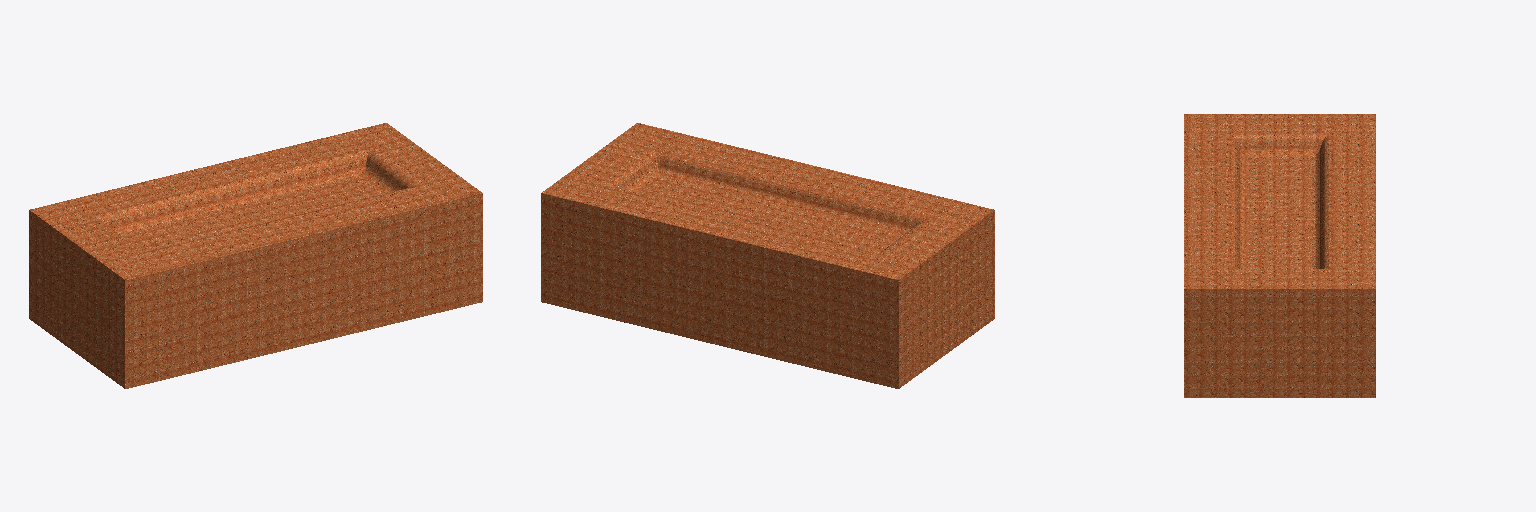
The picture shows the model from 3 angles: view 1: azimuth 30°, elevation 25°; view 2: azimuth 150°, elevation 25°; view 3: azimuth 270°, elevation 25°; orthographic projection.
Parts seen in each view (by area): view 1: |Brick|Root|red_brick; view 2: |Brick|Root|red_brick; view 3: |Brick|Root|red_brick.
Part boxes in pixels (left/top/right/bottom): |Brick|Root|red_brick: left=29, top=123, right=482, bottom=388; |Brick|Root|red_brick: left=541, top=123, right=994, bottom=388; |Brick|Root|red_brick: left=1184, top=114, right=1375, bottom=397.
Bounding box in the file's own units: 0.24 × 0.07 × 0.112.
1 materials, 1 textured.